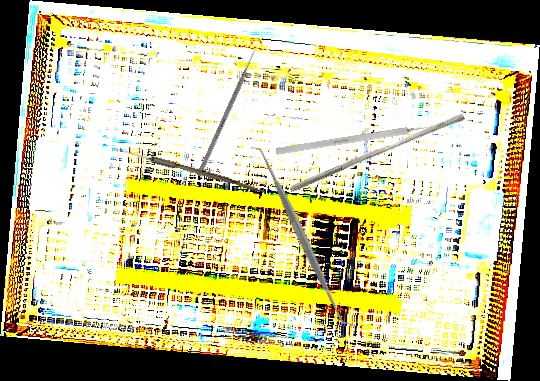Hook Surgical: (275, 122, 440, 155)
Pusher: (288, 106, 466, 200), (196, 42, 261, 177)
Spatula Surgical: (248, 138, 357, 336)
Surgical Spoon: (111, 145, 260, 192)
